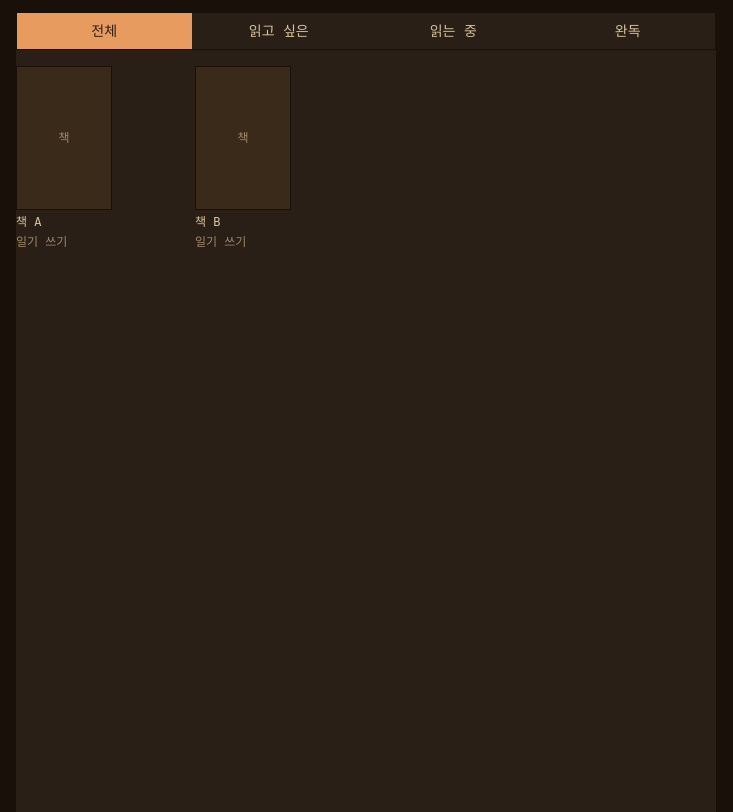
it: BookGrid › '읽고 싶은' 탭 클릭 시 want 상태인 책만 노출한다
Click the tab "읽고 싶은".
click(279, 31)  # box [192, 13, 366, 49]
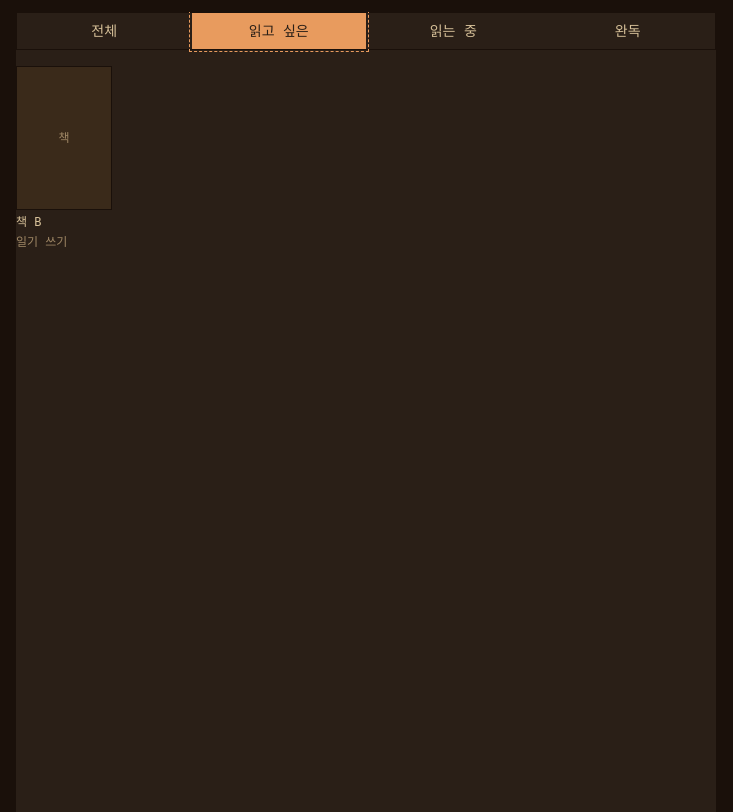
Expected: the text "책 B" is shown, [16, 215, 42, 229]
Expected: the link "책 A" is gone
